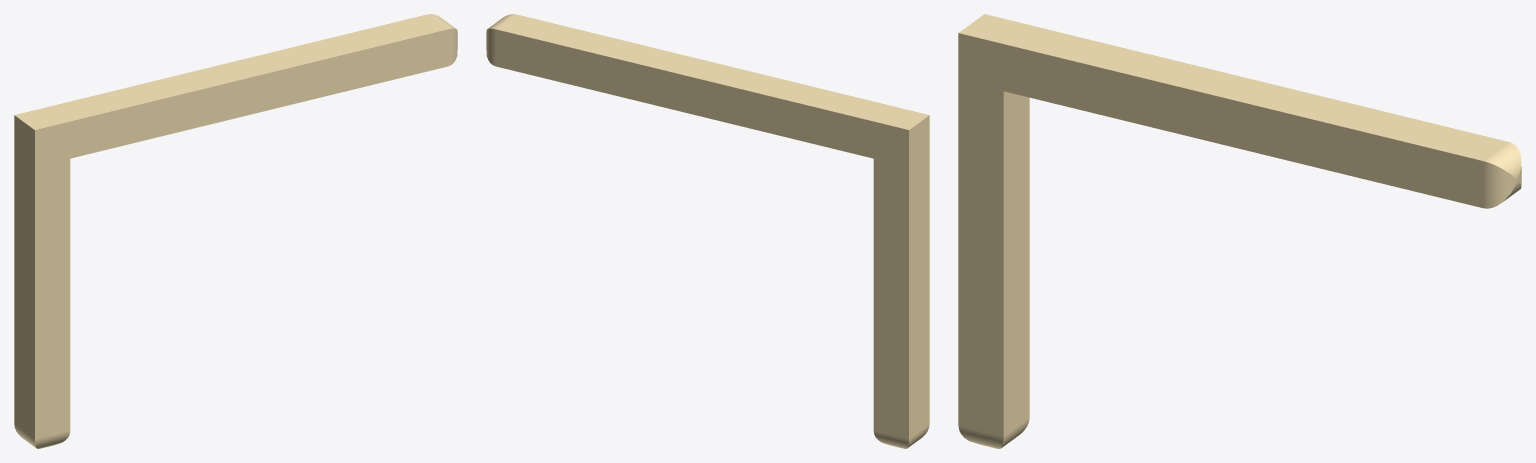
The model's file is PCA9685_v18_188.gltf.
3 views of the same model, side by side, from view 1: azimuth 30°, elevation 25°; view 2: azimuth 150°, elevation 25°; view 3: azimuth 330°, elevation 25° (orthographic). The views are drawn at different scales.
Parts seen in each view (by area): view 1: mesh6383, mesh6382, mesh6385; view 2: mesh6384, mesh6382, mesh6385; view 3: mesh6383, mesh6382, mesh6375, mesh6379, mesh6381, mesh6389.
Boxes of the visible parts, bbox=[...] form: mesh6383: bbox=[35, 29, 447, 438]; mesh6382: bbox=[14, 14, 447, 129]; mesh6385: bbox=[14, 115, 34, 438]; mesh6384: bbox=[496, 29, 908, 438]; mesh6382: bbox=[496, 14, 929, 129]; mesh6385: bbox=[909, 115, 929, 438]; mesh6383: bbox=[958, 33, 1483, 436]; mesh6382: bbox=[959, 14, 1508, 160]; mesh6375: bbox=[1003, 91, 1029, 435]; mesh6379: bbox=[1483, 161, 1516, 208]; mesh6381: bbox=[1483, 142, 1521, 179]; mesh6389: bbox=[958, 426, 1003, 448].
Size of the model in its own units: 0.00763 by 0.00555 by 0.00063.
